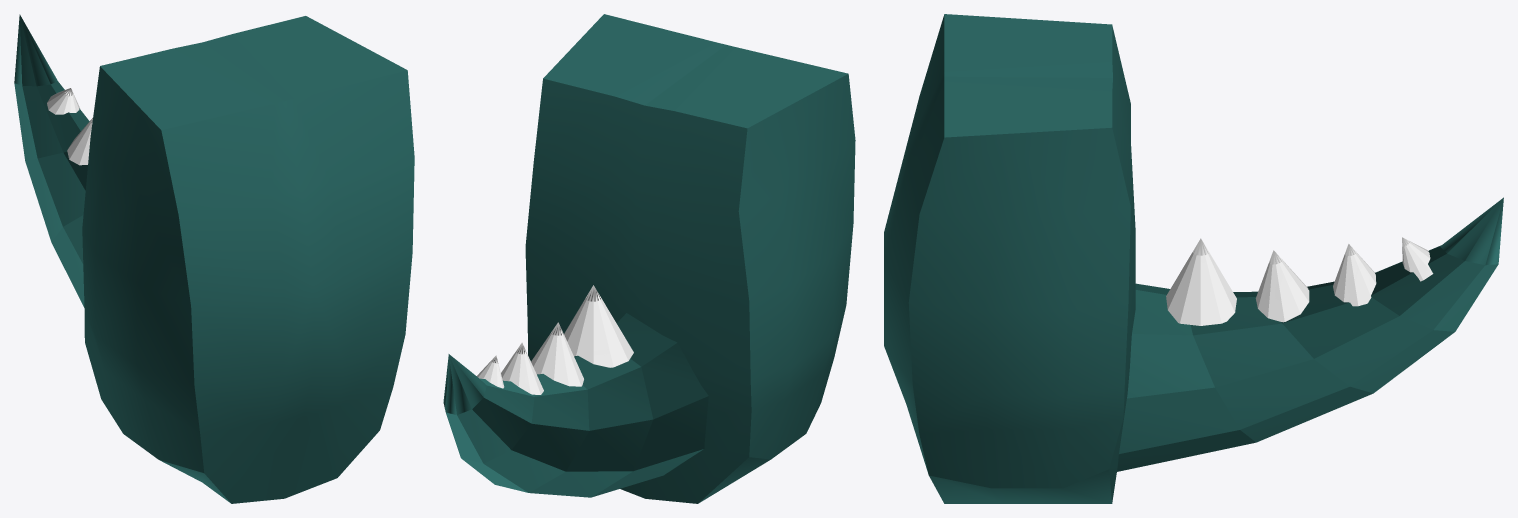
The model's file is corps_dino.fbx.
3 views of the same model, side by side, from view 1: azimuth 30°, elevation 25°; view 2: azimuth 150°, elevation 25°; view 3: azimuth 270°, elevation 25° (orthographic). The views are drawn at different scales.
Parts seen in each view (by area): view 1: Box033; view 2: Box033; view 3: Box033.
Boxes of the visible parts, box(x1,y1,x2,y2) form: Box033: box(14, 14, 414, 503); Box033: box(443, 14, 855, 503); Box033: box(884, 14, 1503, 503).
Size of the model in its own units: 55.05 by 82.05 by 113.
